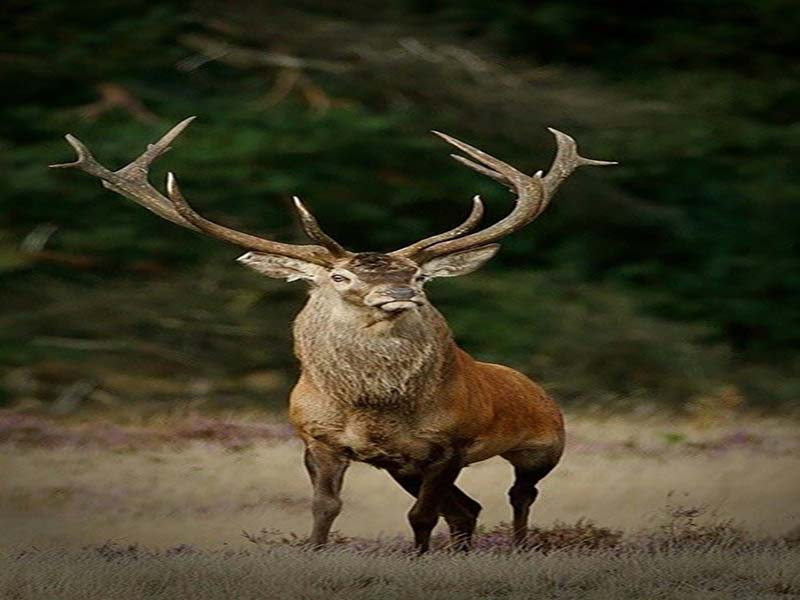cervo: (62, 98, 615, 547)
